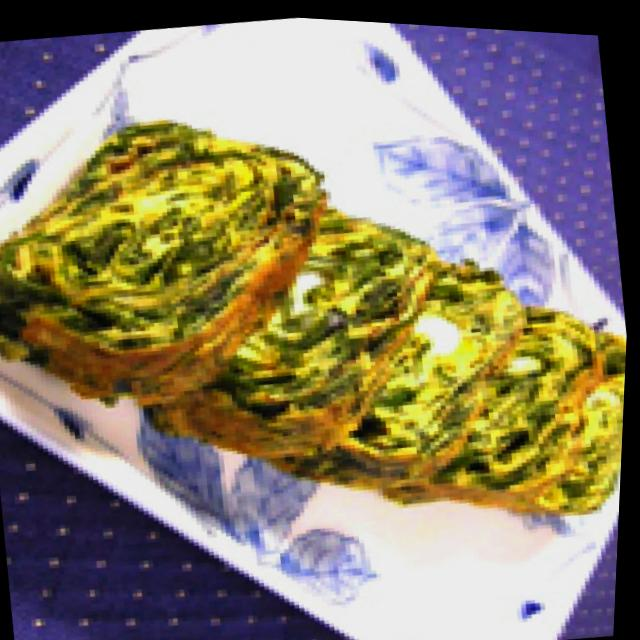鸡蛋料理: (0, 31, 639, 596)
